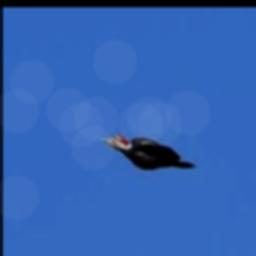Woodpecker: (100, 132, 195, 170)
